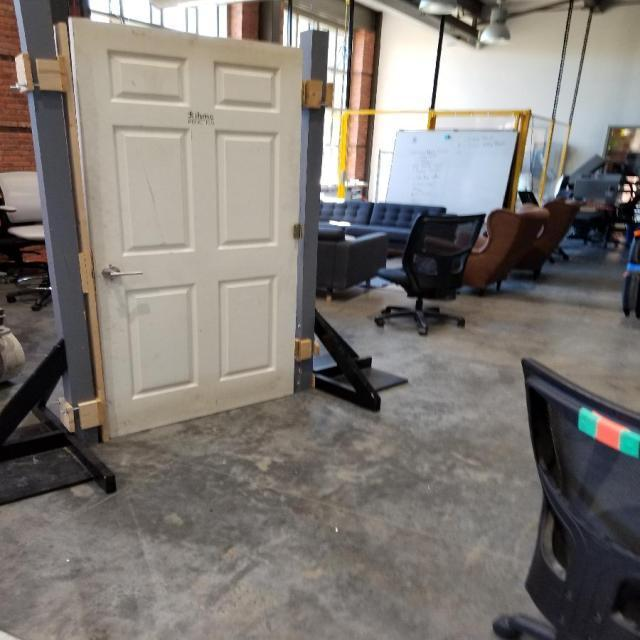door: (61, 14, 305, 438), (100, 265, 146, 291)
